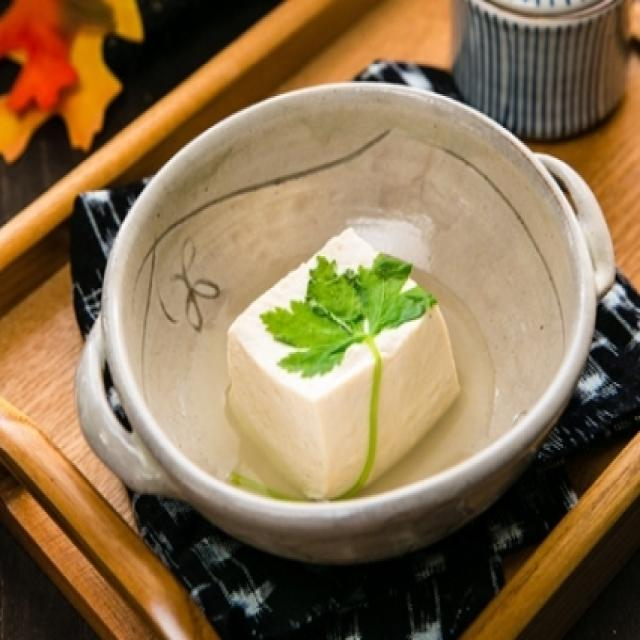豆腐料理: (156, 181, 520, 495)
